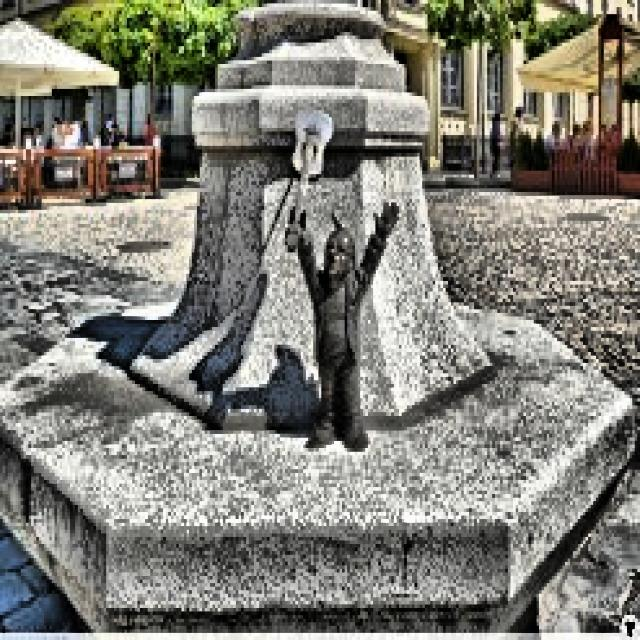Leszko_z_Wroclawia: (285, 110, 399, 452)
